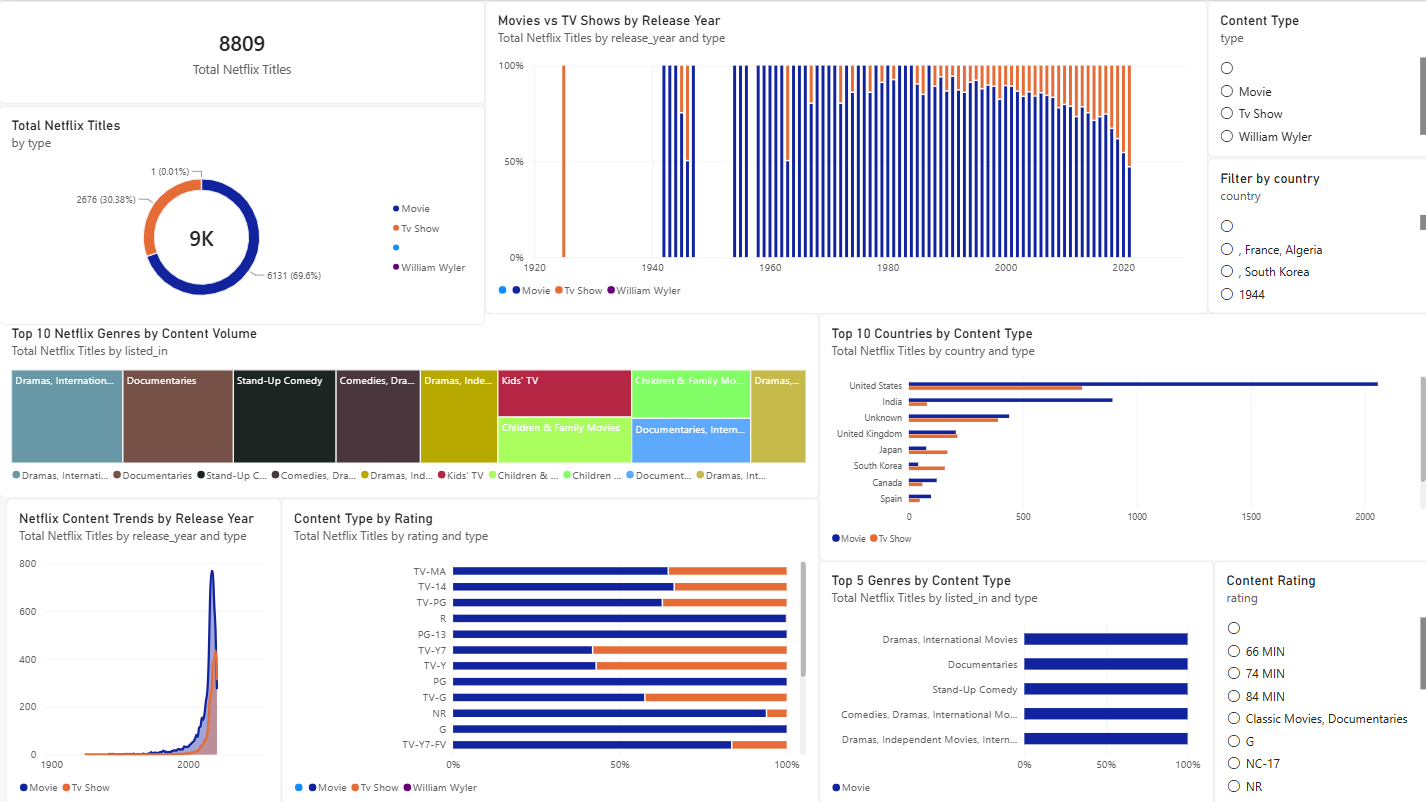

The page's visual inventory and layout, read from the dashboard file:
{"tool":"powerbi","page":{"name":"Page 1","canvas":[1920,1080],"ordinal":0},"visuals":[{"type":"card","fields":{"Values":["SWYNEX_cleaned_netflix_dataset.Total Netflix Titles"]},"box":[0,0,648.3,136.7],"z":0},{"type":"hundredPercentStackedColumnChart","title":"Movies vs TV Shows by Release Year","fields":{"Category":["SWYNEX_cleaned_netflix_dataset.release_year"],"Series":["SWYNEX_cleaned_netflix_dataset.type"],"Y":["SWYNEX_cleaned_netflix_dataset.Total Titles"]},"box":[648.3,0,963.3,416.7],"z":1000},{"type":"hundredPercentStackedBarChart","title":"Content Type by Rating","fields":{"Series":["SWYNEX_cleaned_netflix_dataset.type"],"Y":["SWYNEX_cleaned_netflix_dataset.Total Titles"],"Category":["SWYNEX_cleaned_netflix_dataset.rating"]},"box":[376.7,663.3,716.7,416.7],"z":2000},{"type":"clusteredBarChart","title":"Top 10 Countries by Content Type","fields":{"Category":["SWYNEX_cleaned_netflix_dataset.country"],"Y":["SWYNEX_cleaned_netflix_dataset.Total Netflix Titles"],"Series":["SWYNEX_cleaned_netflix_dataset.type"]},"box":[1093.3,416.7,826.7,330],"z":3000},{"type":"hundredPercentStackedBarChart","title":"Top 5 Genres by Content Type","fields":{"Category":["SWYNEX_cleaned_netflix_dataset.listed_in"],"Series":["SWYNEX_cleaned_netflix_dataset.type"],"Y":["SWYNEX_cleaned_netflix_dataset.Total Titles"]},"box":[1093.3,746.7,526.7,333.3],"z":4000},{"type":"areaChart","title":"Netflix Content Trends by Release Year","fields":{"Category":["SWYNEX_cleaned_netflix_dataset.release_year"],"Y":["SWYNEX_cleaned_netflix_dataset.Total Titles"],"Series":["SWYNEX_cleaned_netflix_dataset.type"]},"box":[10,663.3,366.7,416.7],"z":5000},{"type":"treemap","title":"Top 10 Netflix Genres by Content Volume","fields":{"Group":["SWYNEX_cleaned_netflix_dataset.listed_in"],"Values":["SWYNEX_cleaned_netflix_dataset.Total Titles"]},"box":[0,416.7,1093.3,246.7],"z":6000},{"type":"donutChart","fields":{"Category":["SWYNEX_cleaned_netflix_dataset.type"],"Y":["SWYNEX_cleaned_netflix_dataset.Total Netflix Titles"]},"box":[0,140,648.3,291.7],"z":7000},{"type":"listSlicer","title":"Content Type","fields":{"Values":["SWYNEX_cleaned_netflix_dataset.type"]},"box":[1611.7,0,308.3,208.3],"z":8000},{"type":"listSlicer","title":"Content Rating","fields":{"Values":["SWYNEX_cleaned_netflix_dataset.rating"]},"box":[1620,746.7,300,333.3],"z":9000},{"type":"listSlicer","title":"Filter by country","fields":{"Values":["SWYNEX_cleaned_netflix_dataset.country"]},"box":[1611.7,210,308.3,206.7],"z":10000}]}

Visuals, with their boxes in screenshot pixels (x1, y1, x2, y2), scaled from the page's 1920x1080 canvas onto the 1426x802 screenshot:
card - SWYNEX_cleaned_netflix_dataset.Total Netflix Titles: locate(0, 0, 481, 102)
"Movies vs TV Shows by Release Year" hundredPercentStackedColumnChart: locate(481, 0, 1197, 309)
"Content Type by Rating" hundredPercentStackedBarChart: locate(280, 493, 812, 801)
"Top 10 Countries by Content Type" clusteredBarChart: locate(812, 309, 1425, 554)
"Top 5 Genres by Content Type" hundredPercentStackedBarChart: locate(812, 554, 1203, 801)
"Netflix Content Trends by Release Year" areaChart: locate(7, 493, 280, 801)
"Top 10 Netflix Genres by Content Volume" treemap: locate(0, 309, 812, 493)
donutChart - SWYNEX_cleaned_netflix_dataset.type x SWYNEX_cleaned_netflix_dataset.Total Netflix Titles: locate(0, 104, 481, 321)
"Content Type" listSlicer: locate(1197, 0, 1425, 155)
"Content Rating" listSlicer: locate(1203, 554, 1425, 801)
"Filter by country" listSlicer: locate(1197, 156, 1425, 309)
